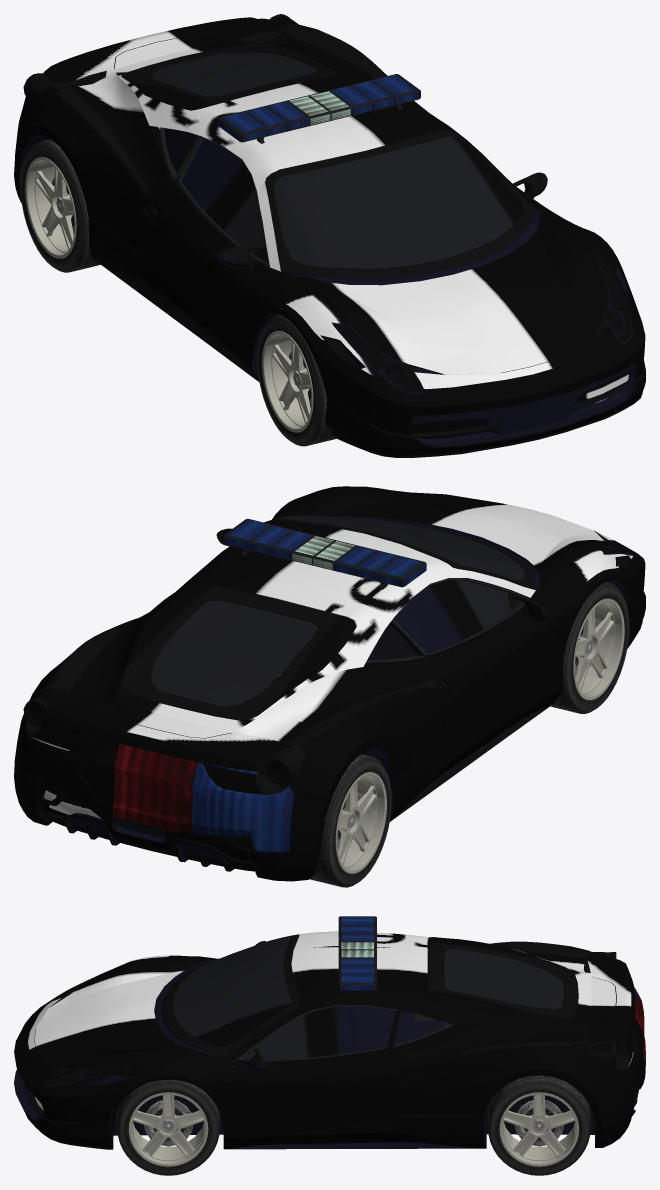
File: PoliceCar4.FBX
The picture shows the model from 3 angles, top to bottom: view 1: azimuth 30°, elevation 25°; view 2: azimuth 150°, elevation 25°; view 3: azimuth 270°, elevation 25°; orthographic projection. The views are drawn at different scales.
Visible parts, largest first — view 1: Body, BR, FR; view 2: Body, BR, FR; view 3: Body, BL, FL.
Boxes of the visible parts, x1,y1,x2,y2 form: Body: (14,14,645,457); BR: (20,139,100,272); FR: (257,314,336,446); Body: (14,486,645,881); BR: (310,754,391,887); FR: (550,582,629,713); Body: (14,916,645,1149); BL: (488,1075,590,1175); FL: (117,1080,219,1175).
Bounding box in the file's own units: 19.94 × 12.36 × 42.41.
